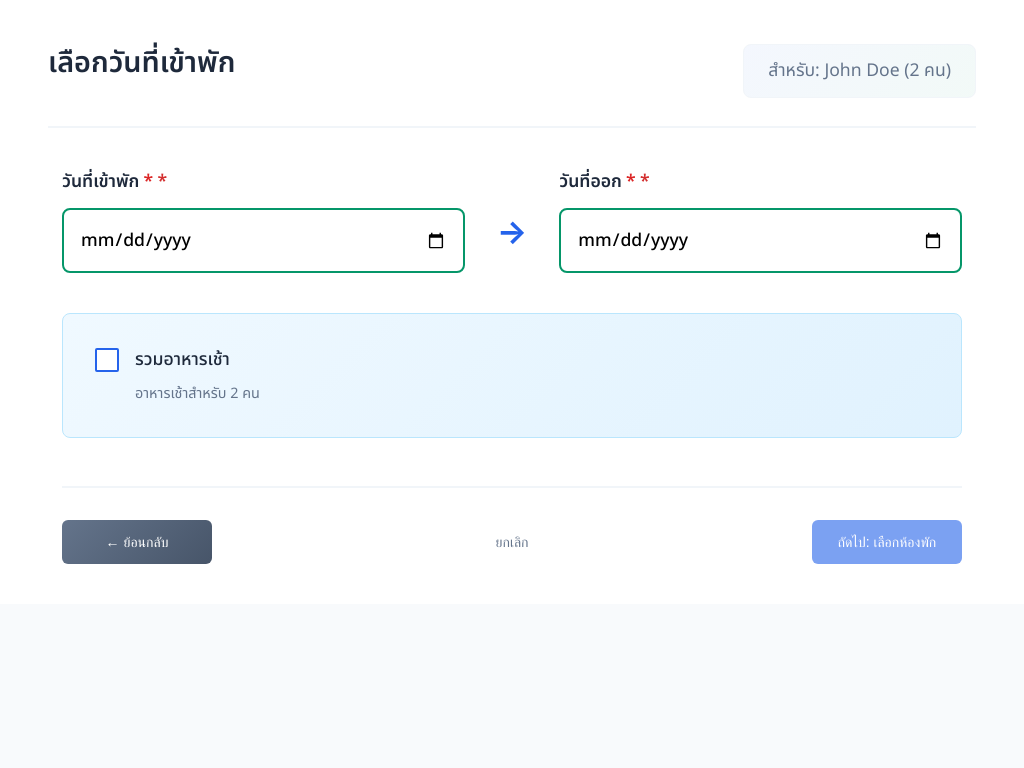
Test: DateSelection Component › Form Validation › clears errors when user corrects input
Expected: the button "ถัดไป: เลือกห้องพัก" is disabled, [812,520,962,564]
Submit the form, box [62,168,962,564]
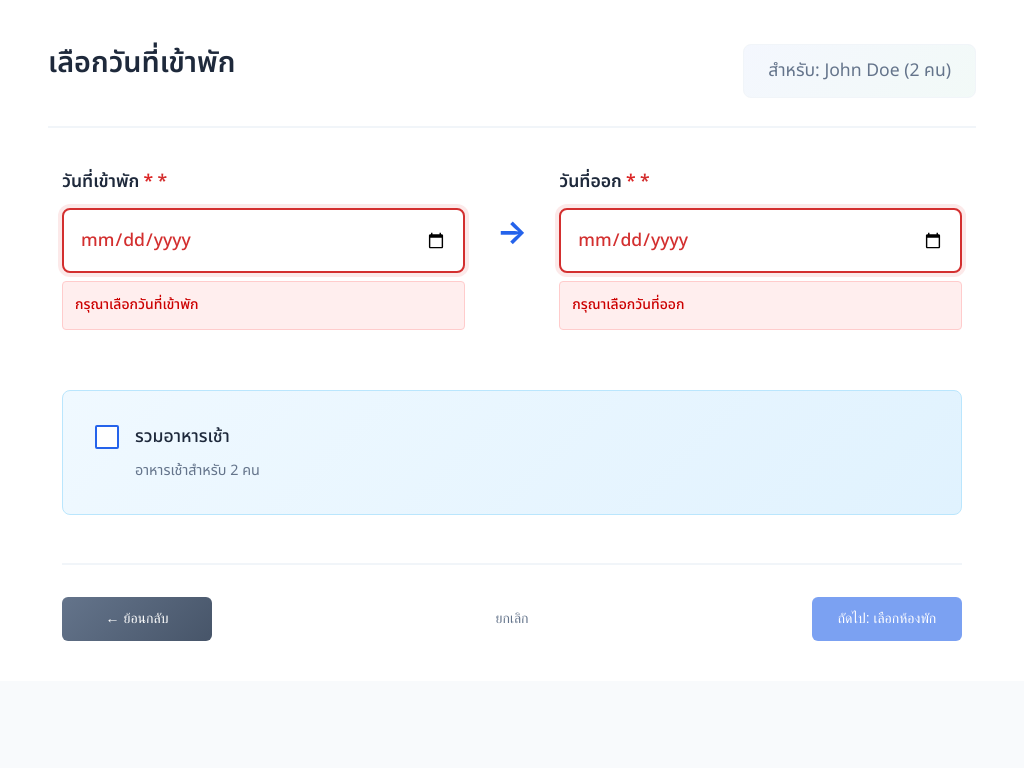
Expected: the text "กรุณาเลือกวันที่เข้าพัก" is shown, [62,281,465,330]
// Then fix the error by typing a date
Type "2024-12-15" into the date field labelled "วันที่เข้าพัก *". click: (263,241)
box: [62,208,465,273]
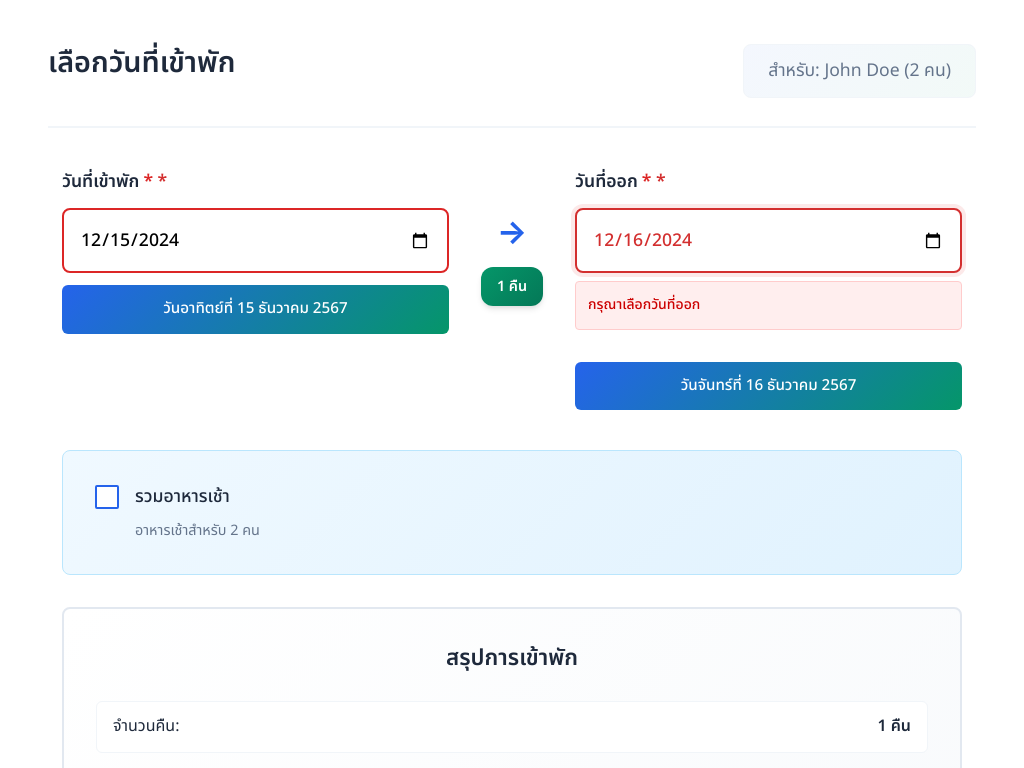
Expected: the text "กรุณาเลือกวันที่เข้าพัก" is gone
